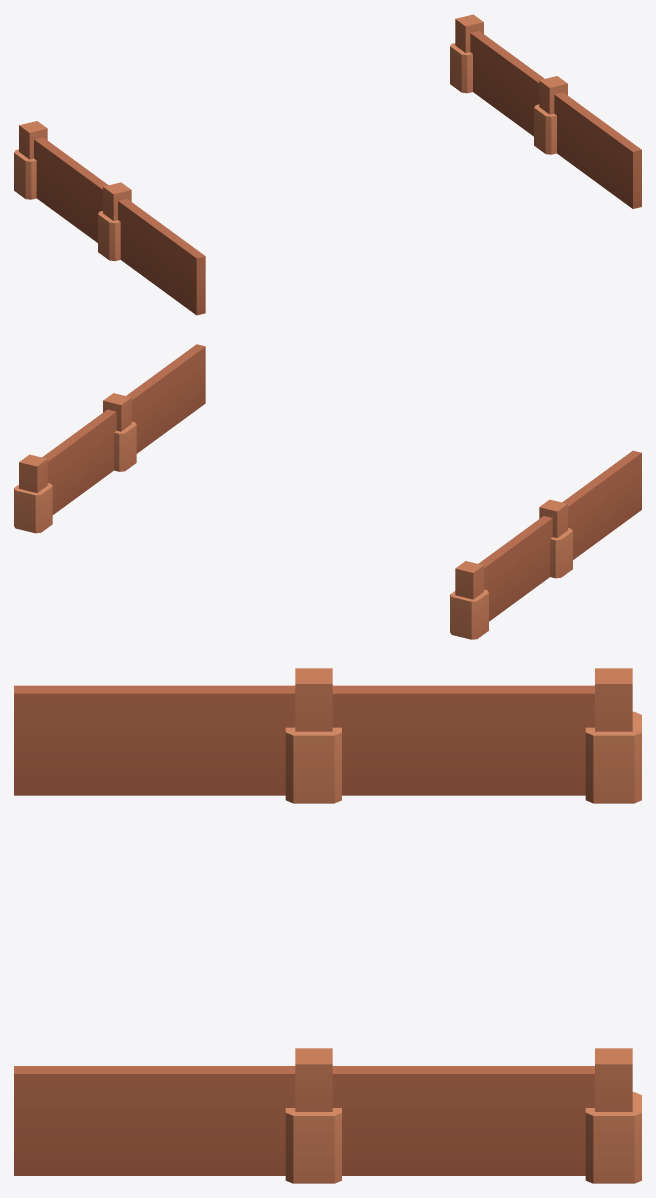
The model's file is suburban__fence-low.glb.
3 renders of one model, top to bottom at view 1: azimuth 30°, elevation 25°; view 2: azimuth 150°, elevation 25°; view 3: azimuth 270°, elevation 25°, orthographic. The views are drawn at different scales.
Parts seen in each view (by area): view 1: fence-low; view 2: fence-low; view 3: fence-low.
Boxes of the visible parts, x1,y1,x2,y2 form: fence-low: (14, 14, 641, 315); fence-low: (14, 344, 641, 639); fence-low: (14, 668, 641, 1183).
Bounding box in the file's own units: 1.28 × 0.17 × 0.8374.
Materials: 1 (1 with a texture image).
